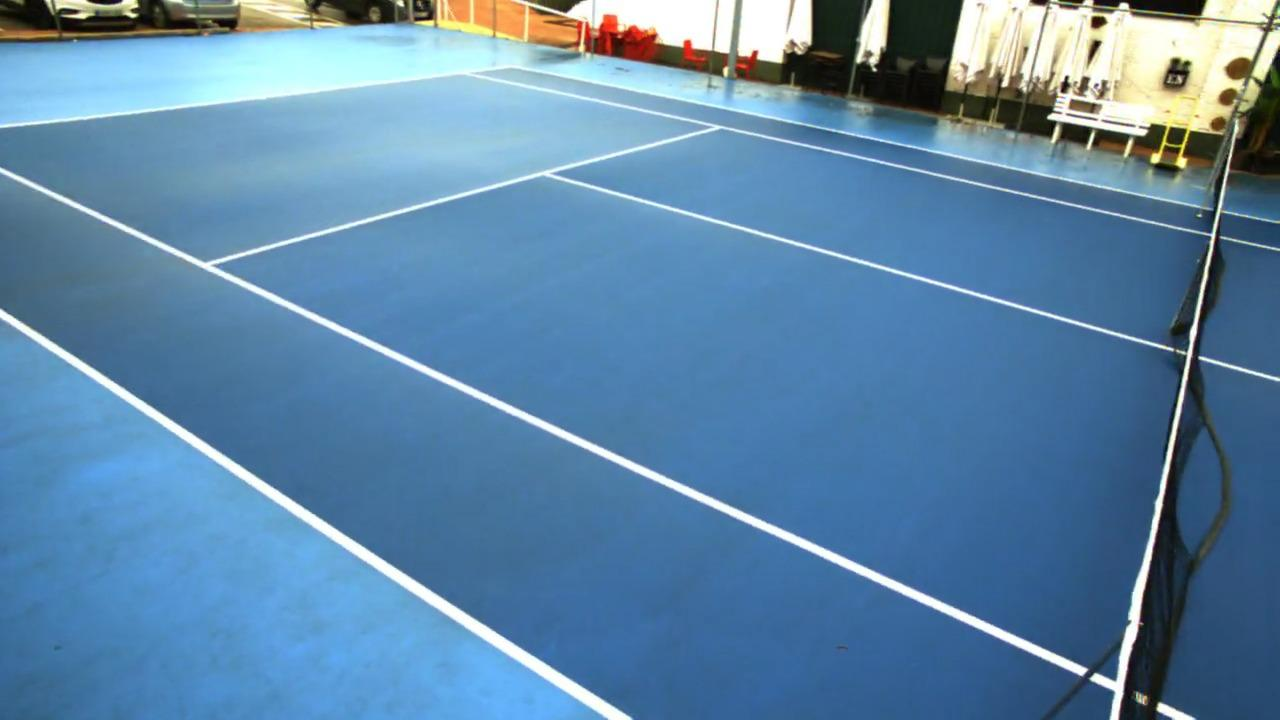cancha_tenis: (2, 71, 1280, 720)
point_f2: (456, 62, 484, 80)
point_fc1: (256, 91, 273, 106)
point_i1: (186, 251, 227, 281)
point_i2: (700, 117, 730, 139)
point_ic1: (525, 161, 570, 187)
